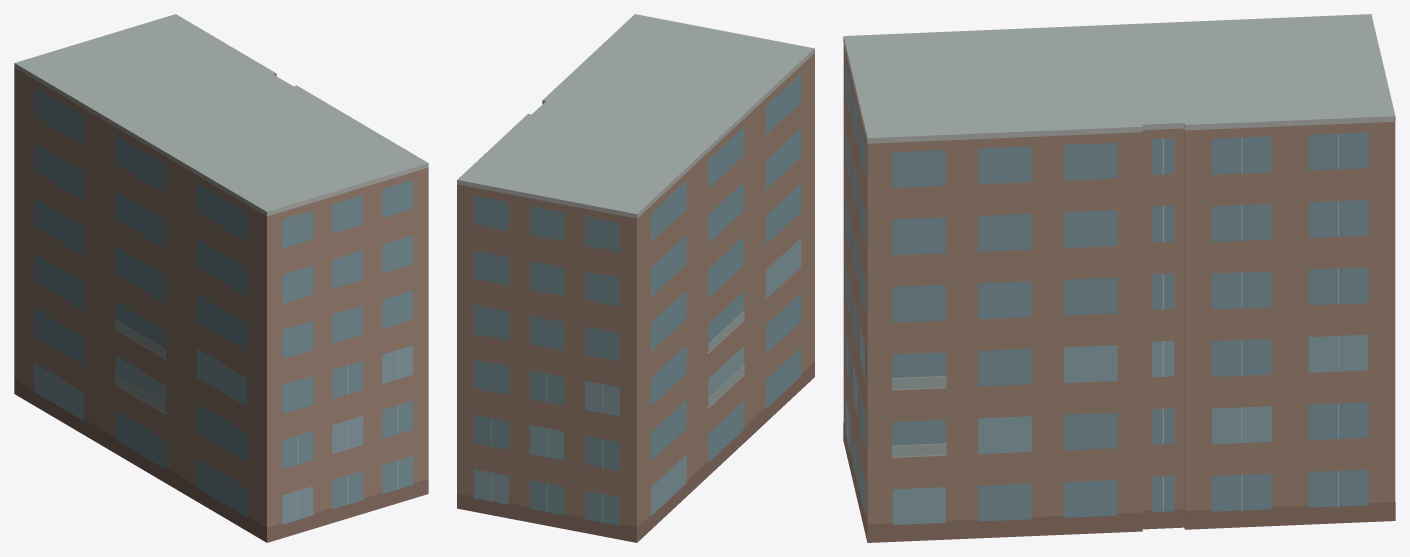
File: survey-upis-32669283.glb
The picture shows the model from 3 angles, left to right: view 1: azimuth 30°, elevation 25°; view 2: azimuth 150°, elevation 25°; view 3: azimuth 270°, elevation 25°; orthographic projection. The views are drawn at different scales.
Parts seen in each view (by area): view 1: survey-upis-32669283.tmp; view 2: survey-upis-32669283.tmp; view 3: survey-upis-32669283.tmp.
Boxes of the visible parts, x1,y1,x2,y2 form: survey-upis-32669283.tmp: (14,14,428,542); survey-upis-32669283.tmp: (457,14,814,542); survey-upis-32669283.tmp: (843,14,1395,542).
Size of the model in its own units: 11.86 by 18 by 22.26.
